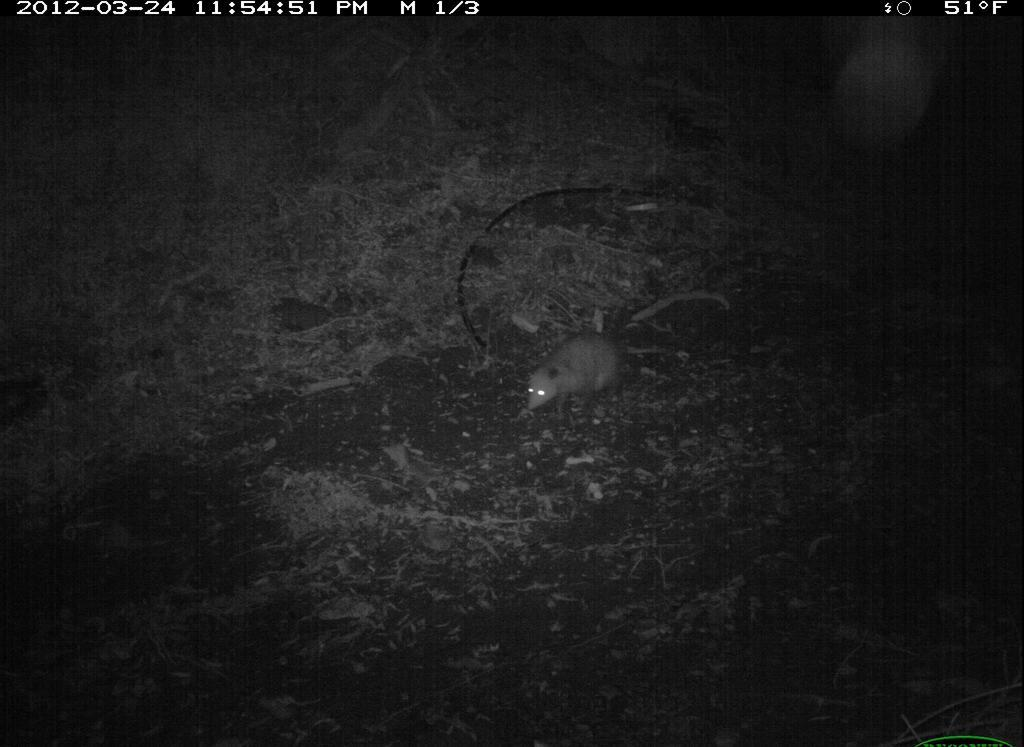opossum: (520, 328, 662, 418)
